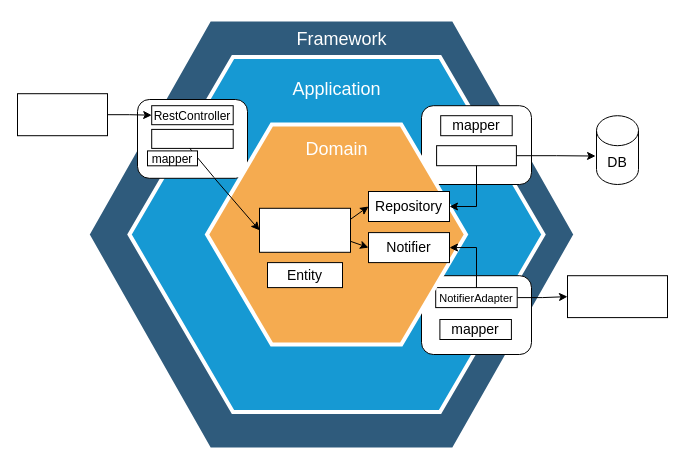
Some shapes in this 685 by 468 pixel diagram are drawn without their labels. Each missing label, with the box of its shape:
Domain Service: (258, 207, 350, 252)
email service: (566, 275, 668, 318)
Http Client: (16, 93, 108, 136)
JpaAdapter: (436, 145, 516, 166)
RestAdapter: (151, 128, 233, 148)
